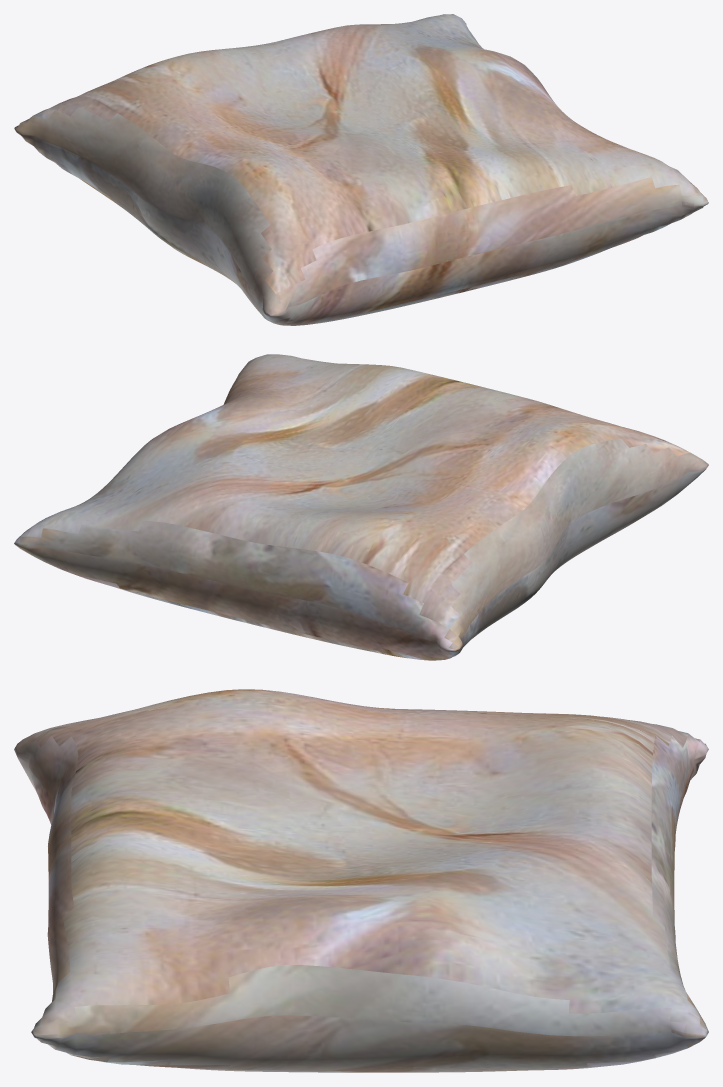
Rendered from padi.fbx.
3 renders of one model, top to bottom at view 1: azimuth 30°, elevation 25°; view 2: azimuth 150°, elevation 25°; view 3: azimuth 270°, elevation 25°, orthographic. The views are drawn at different scales.
Parts seen in each view (by area): view 1: Plane.001; view 2: Plane.001; view 3: Plane.001.
Part boxes in pixels (x1=…): Plane.001: x1=14, y1=14, x2=708, y2=325; Plane.001: x1=14, y1=354, x2=708, y2=660; Plane.001: x1=14, y1=689, x2=708, y2=1072.
Size of the model in its own units: 613 by 176 by 611.
